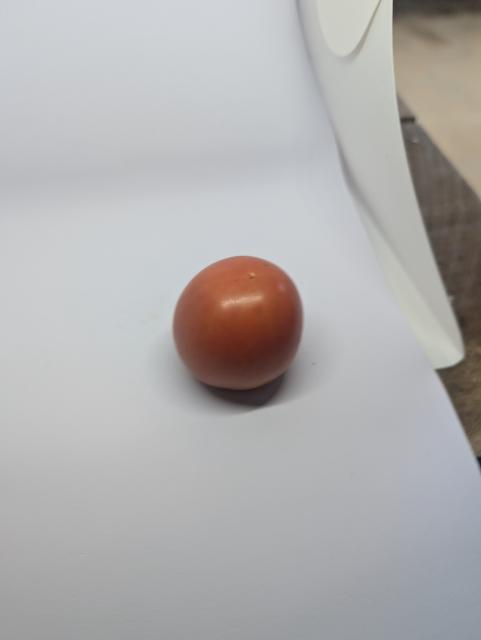red: (161, 252, 330, 406)
